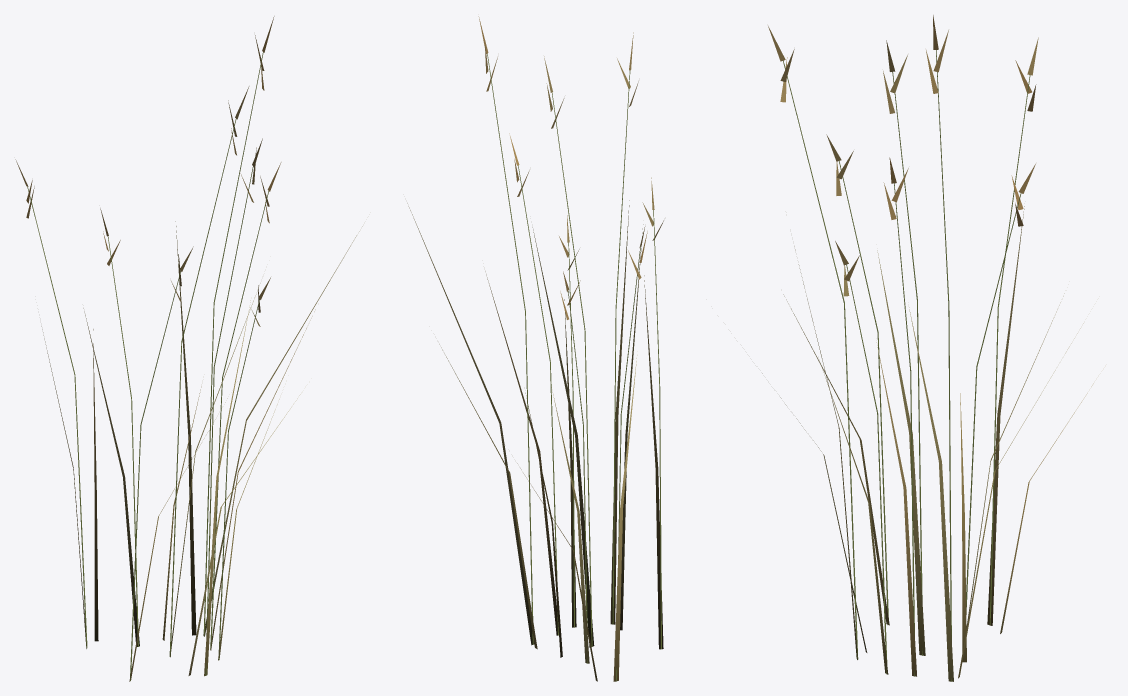
Rendered from grass-dry-b.lod1.glb.
3 renders of one model, left to right at view 1: azimuth 30°, elevation 25°; view 2: azimuth 150°, elevation 25°; view 3: azimuth 270°, elevation 25°, orthographic. The views are drawn at different scales.
Visible parts, largest first — view 1: grass-dry-b.lod1; view 2: grass-dry-b.lod1; view 3: grass-dry-b.lod1.
Boxes of the visible parts, x1=… form: grass-dry-b.lod1: x1=15, y1=16, x2=362, y2=681; grass-dry-b.lod1: x1=407, y1=16, x2=663, y2=681; grass-dry-b.lod1: x1=762, y1=15, x2=1093, y2=681.
Size of the model in its own units: 0.8684 by 1.68 by 0.9079.
